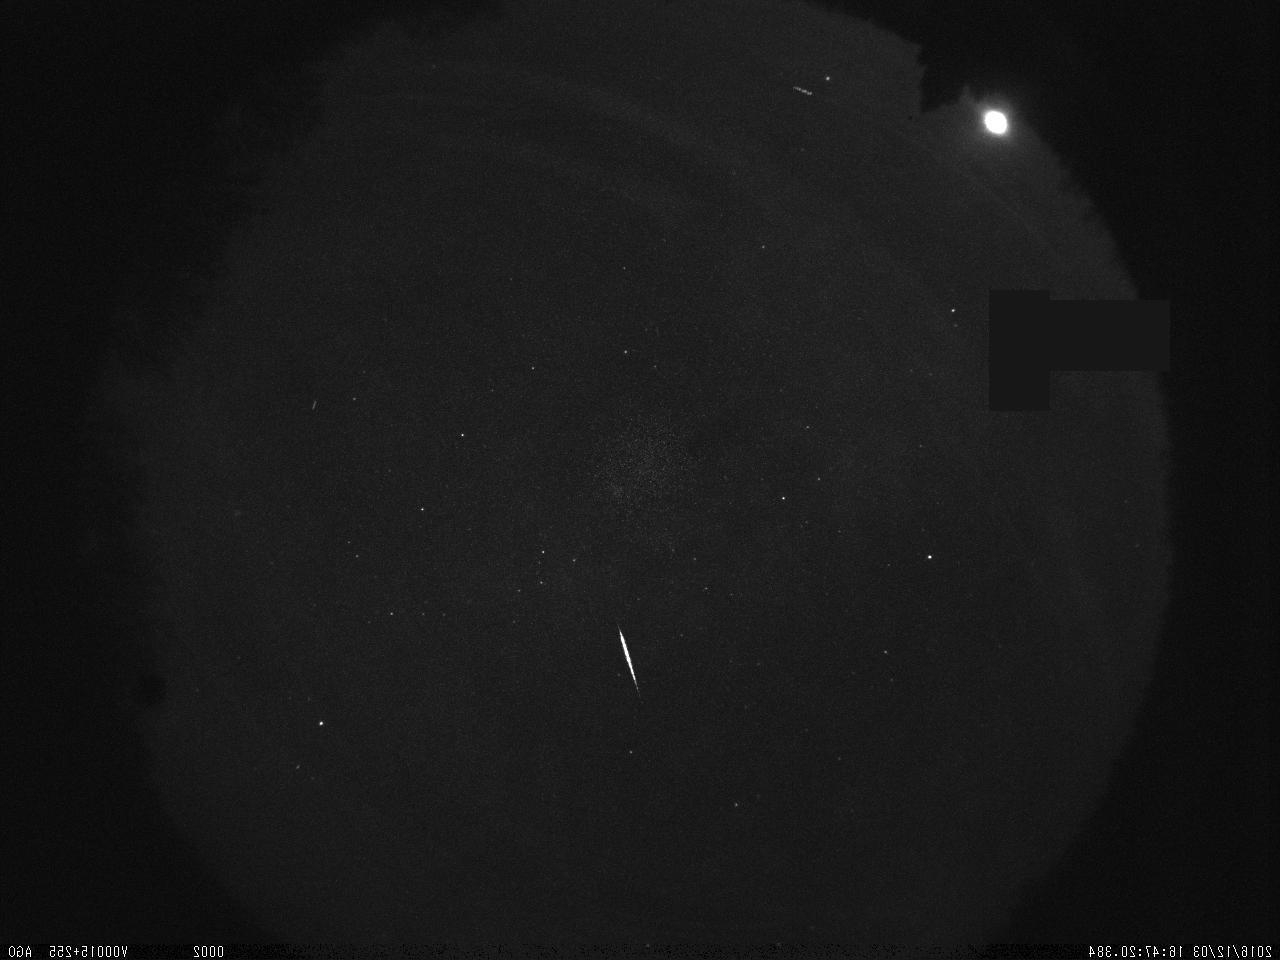meteor: (596, 606, 663, 717)
